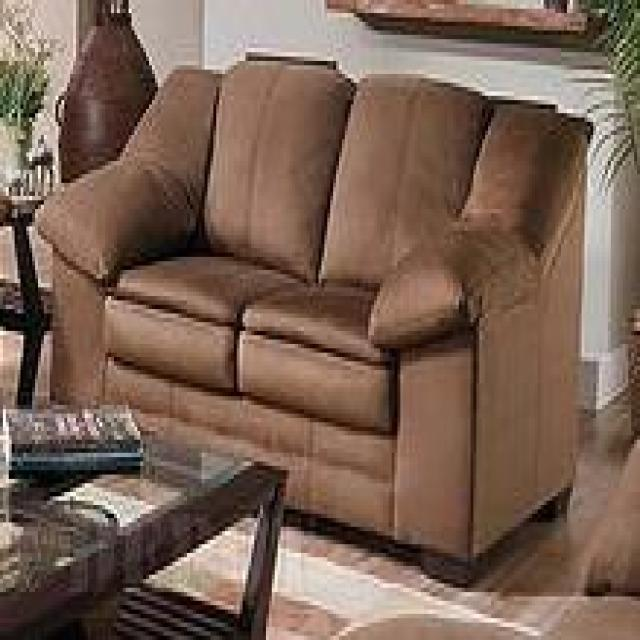sofa: (31, 61, 594, 584)
